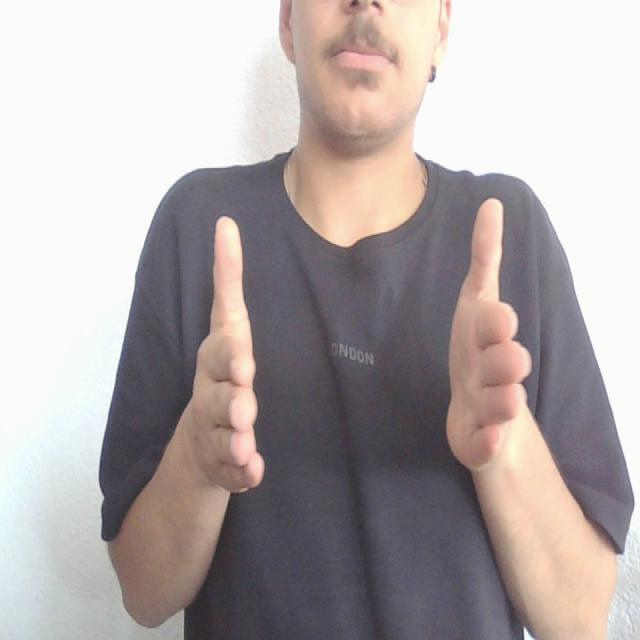Nasil: (168, 185, 552, 508)
